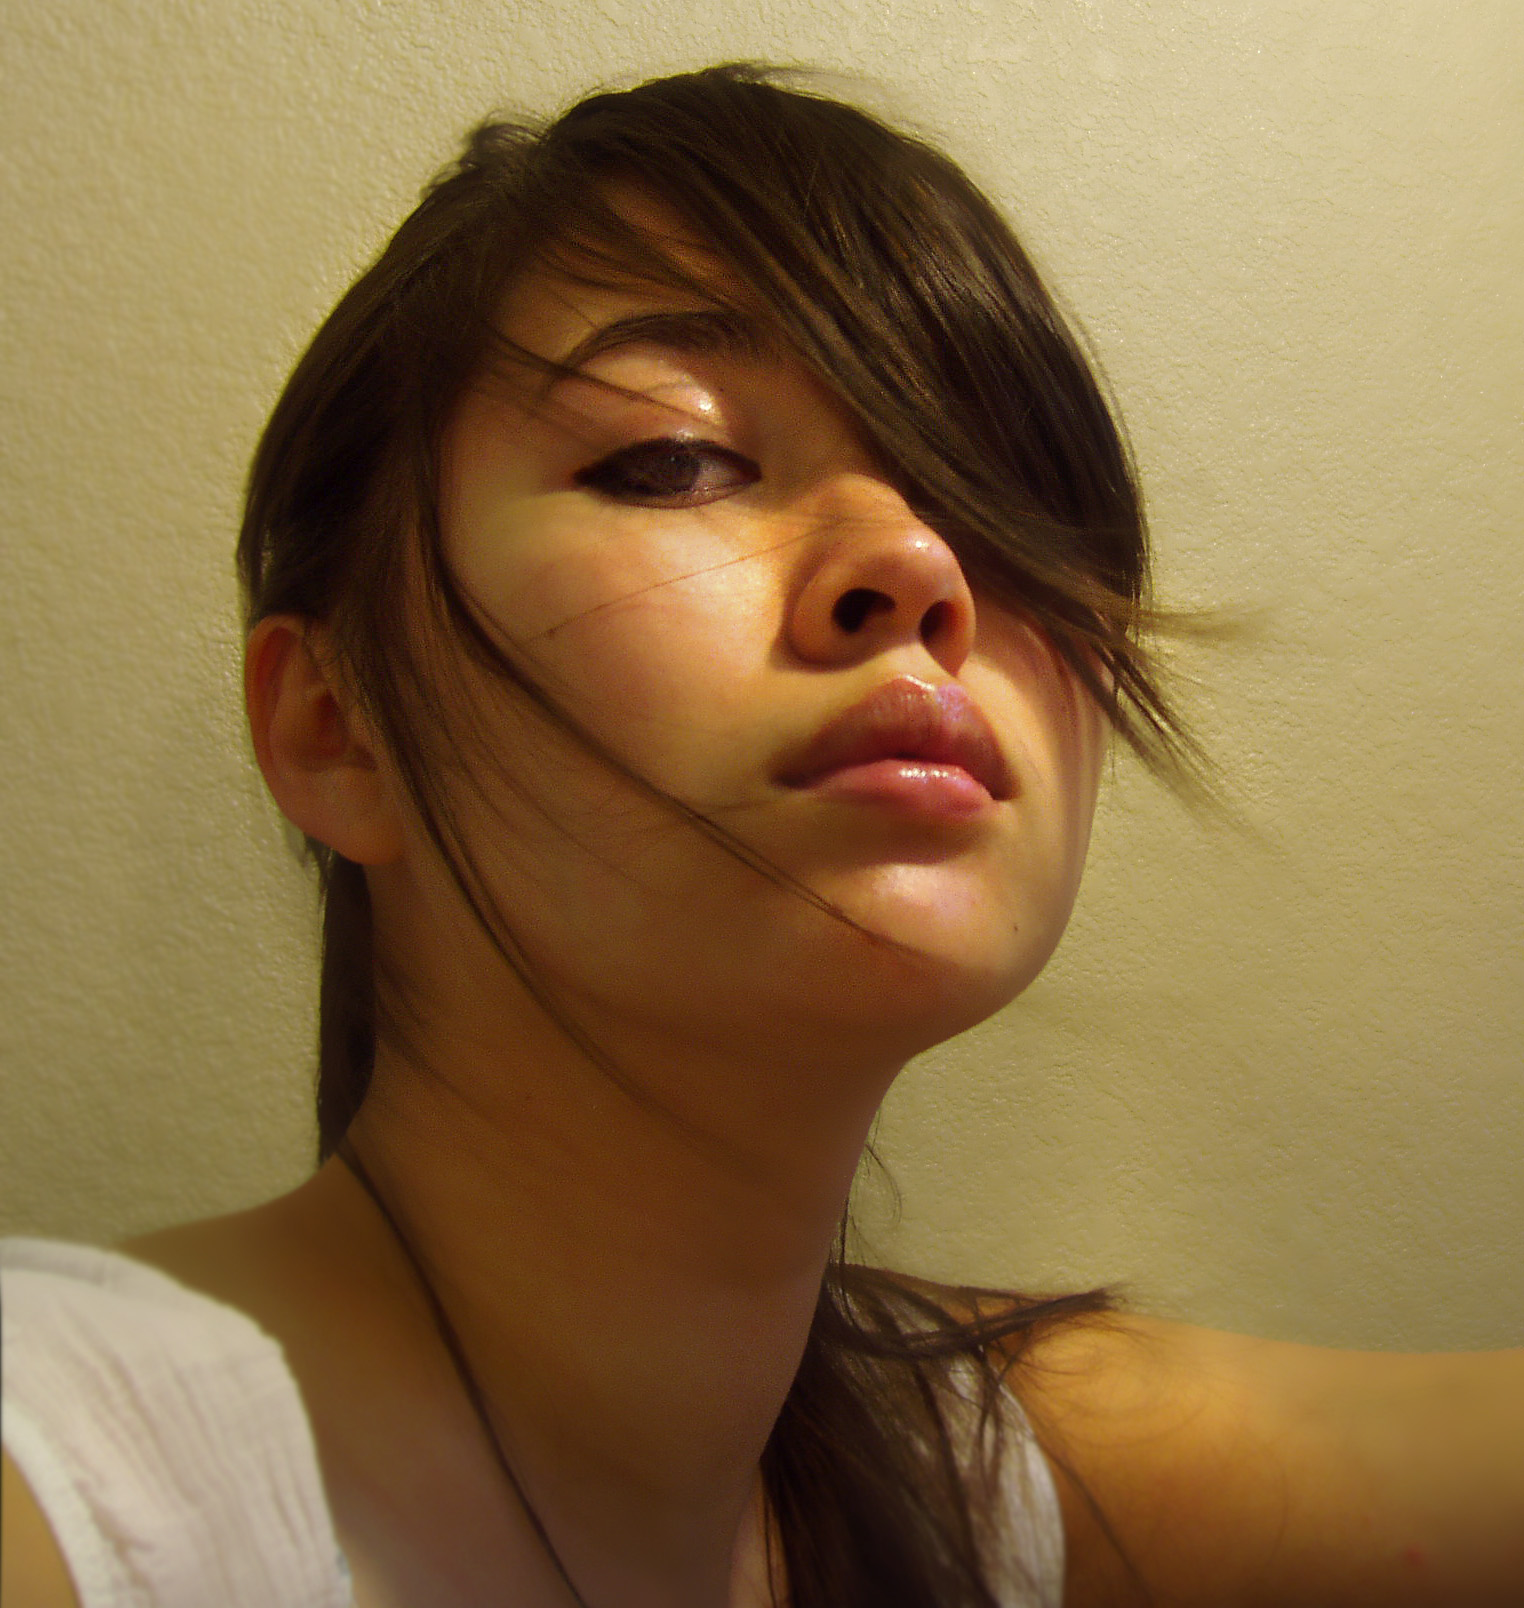bare: (413, 512, 1122, 1022)
